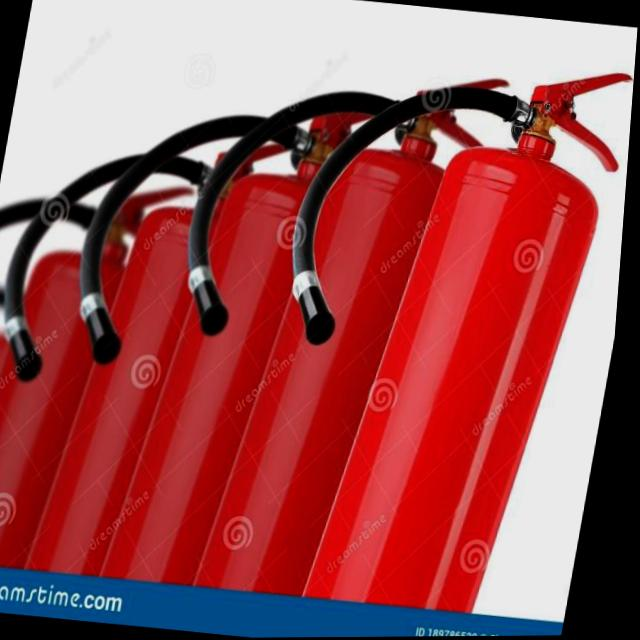FireExtinguisher: (236, 37, 638, 624), (129, 47, 515, 612), (27, 67, 410, 602), (0, 99, 314, 590)
